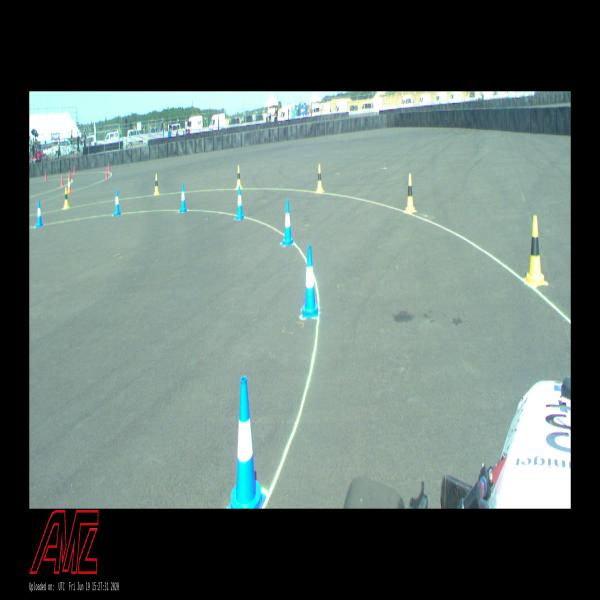blue_cone: (228, 376, 266, 509), (302, 244, 318, 318), (282, 199, 294, 246), (235, 186, 244, 220), (180, 183, 187, 213), (36, 200, 43, 228), (114, 189, 121, 216)
orange_cone: (67, 177, 72, 194)
unknown_cone: (60, 174, 64, 187), (105, 168, 108, 179), (108, 162, 110, 173), (69, 170, 71, 180), (74, 165, 76, 174), (45, 172, 47, 180)
yellow_cone: (524, 215, 546, 285), (405, 174, 416, 214), (316, 164, 323, 192), (153, 173, 160, 195), (236, 166, 242, 190), (64, 187, 69, 209)
